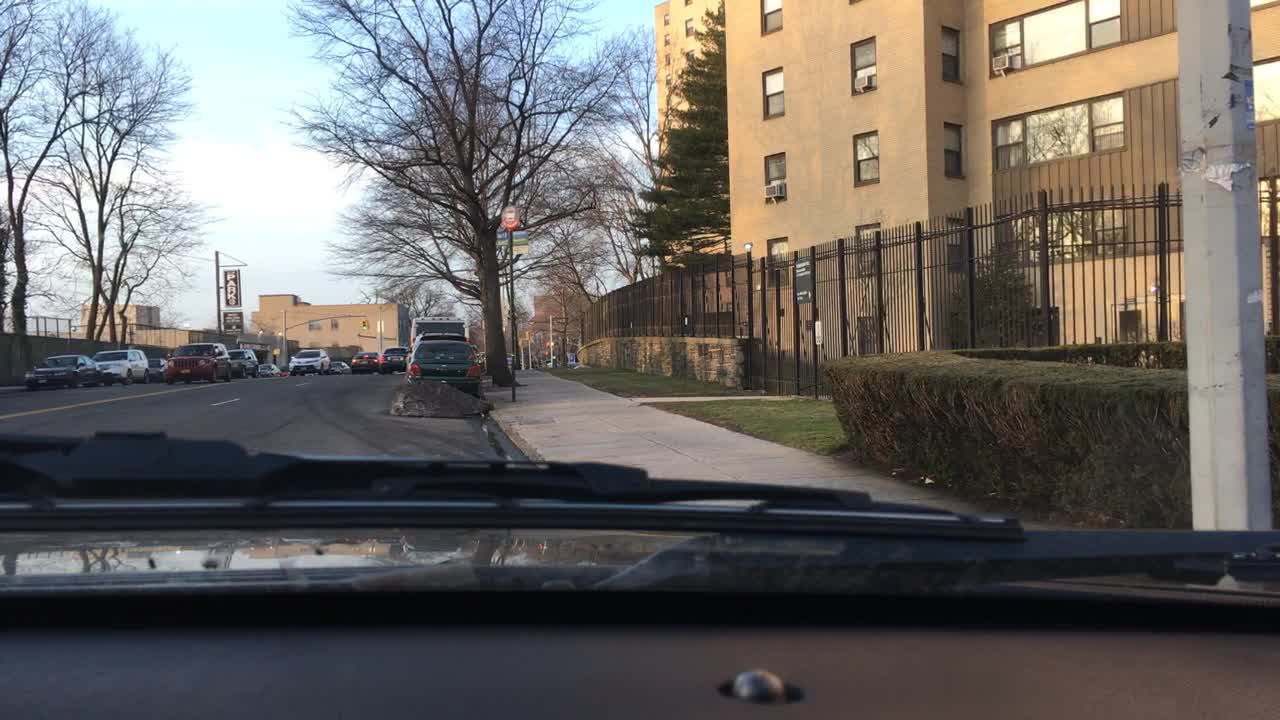bus: (407, 316, 466, 359)
car: (407, 341, 479, 397), (22, 352, 101, 392), (164, 342, 233, 386), (88, 348, 151, 387), (287, 347, 332, 377), (228, 346, 262, 378), (381, 344, 409, 376), (352, 348, 382, 372), (146, 356, 171, 383), (414, 331, 468, 342), (257, 362, 282, 377), (329, 359, 349, 374)
traffic light: (362, 317, 369, 332)
traffic sign: (511, 230, 530, 252), (502, 204, 519, 228), (494, 235, 508, 245)
